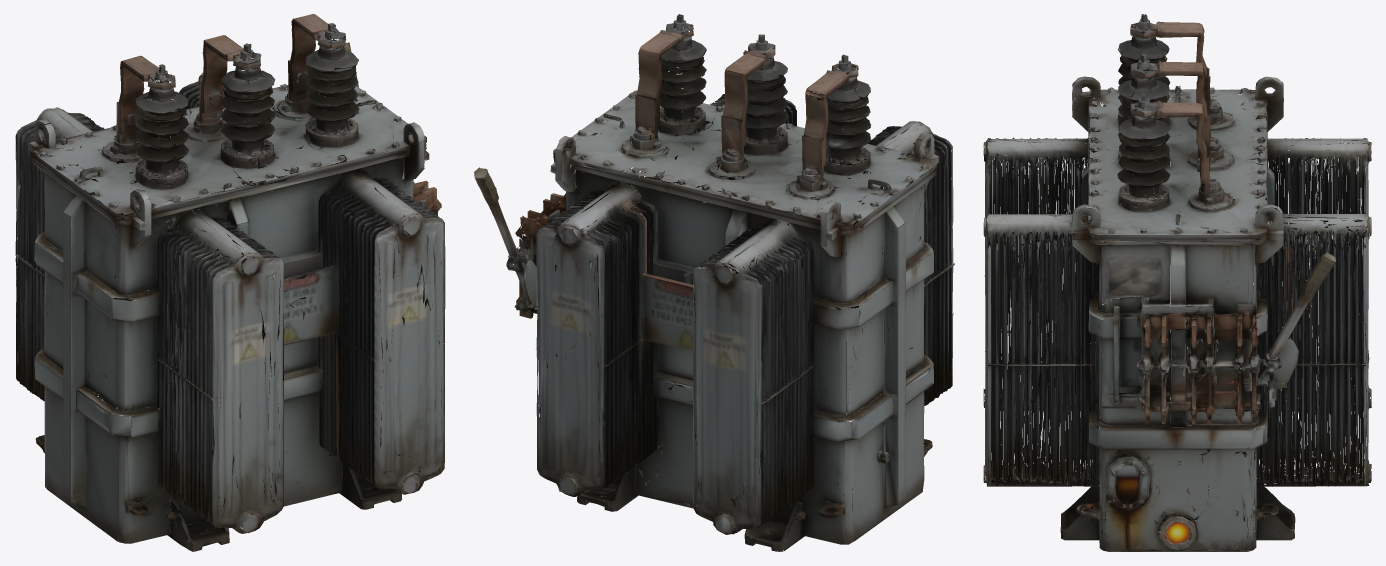
Rendered from substation_stepdown_transformer.glb.
3 renders of one model, left to right at view 1: azimuth 30°, elevation 25°; view 2: azimuth 150°, elevation 25°; view 3: azimuth 270°, elevation 25°, orthographic. The views are drawn at different scales.
Parts seen in each view (by area): view 1: node_0; view 2: node_0; view 3: node_0.
Boxes of the visible parts, <box> form: node_0: <box>15,14,445,551</box>; node_0: <box>474,14,954,551</box>; node_0: <box>983,14,1371,551</box>.
Bounding box in the file's own units: 0.7853 × 0.9381 × 0.763.
1 material, 1 textured.
